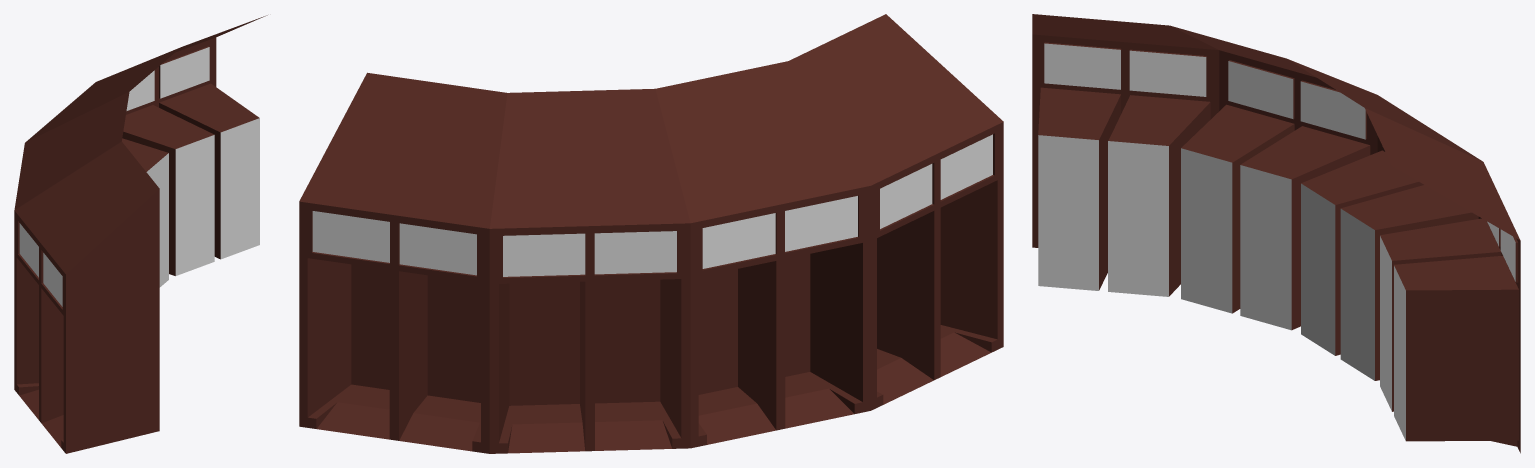
Rendered from 4PORTALS.fbx.
3 renders of one model, left to right at view 1: azimuth 30°, elevation 25°; view 2: azimuth 150°, elevation 25°; view 3: azimuth 270°, elevation 25°, orthographic. The views are drawn at different scales.
Parts seen in each view (by area): view 1: 4PORTALS; view 2: 4PORTALS; view 3: 4PORTALS.
Boxes of the visible parts, x1=… form: 4PORTALS: x1=14, y1=15, x2=267, y2=453; 4PORTALS: x1=299, y1=14, x2=1003, y2=453; 4PORTALS: x1=1032, y1=14, x2=1520, y2=453.
Bounding box in the file's own units: 795 × 517 × 795.
3 materials, 1 textured.
